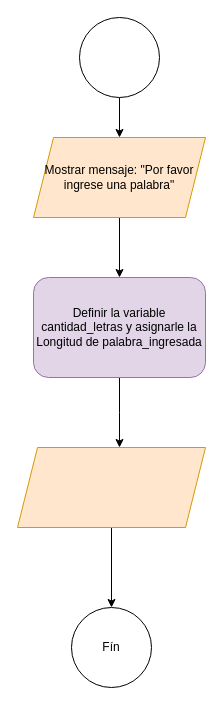
This 223x705 diagram has some shape labels left out. Each missing label, with the box of its shape:
Inicio: (78, 16, 160, 98)
Mostrar mensaje: "La palabra ingresada tiene", cantidad_letras, "letras.": (16, 446, 206, 528)
